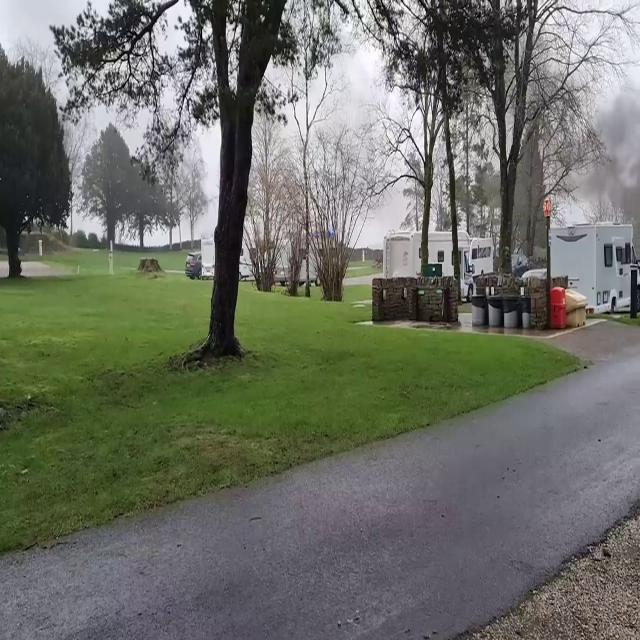Smoke: (576, 39, 640, 229)
